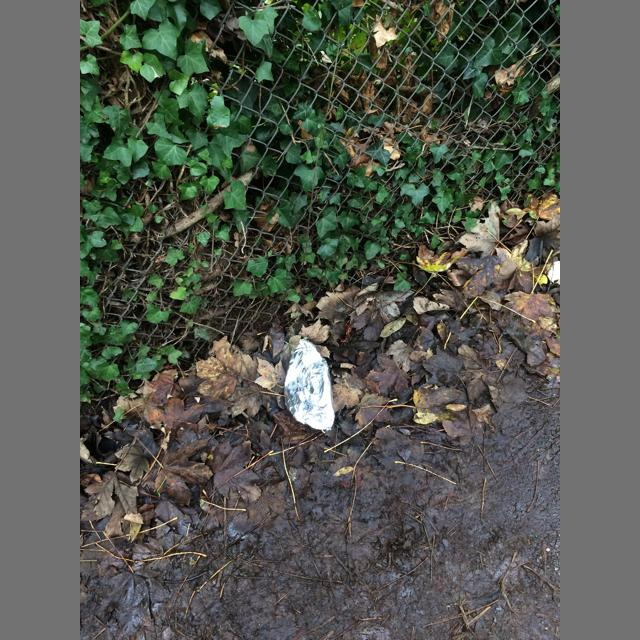litter: (284, 337, 335, 434)
